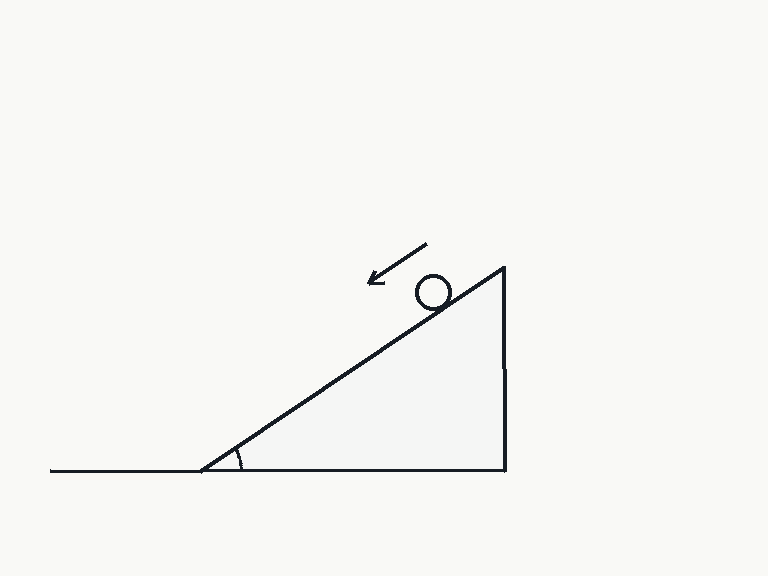ball: (413, 272, 453, 312)
ramp: (199, 264, 506, 472)
